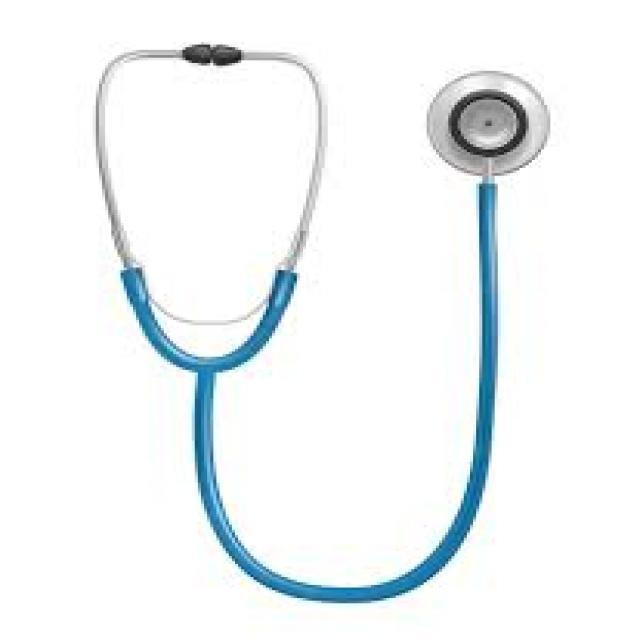stethoscope: (84, 16, 571, 565)
